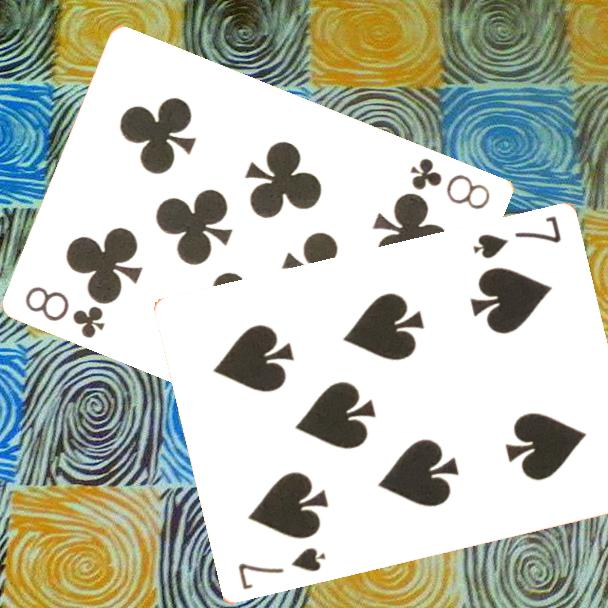c08: (21, 282, 109, 341), (407, 154, 494, 213)
s07: (469, 213, 564, 263), (234, 544, 328, 593)
